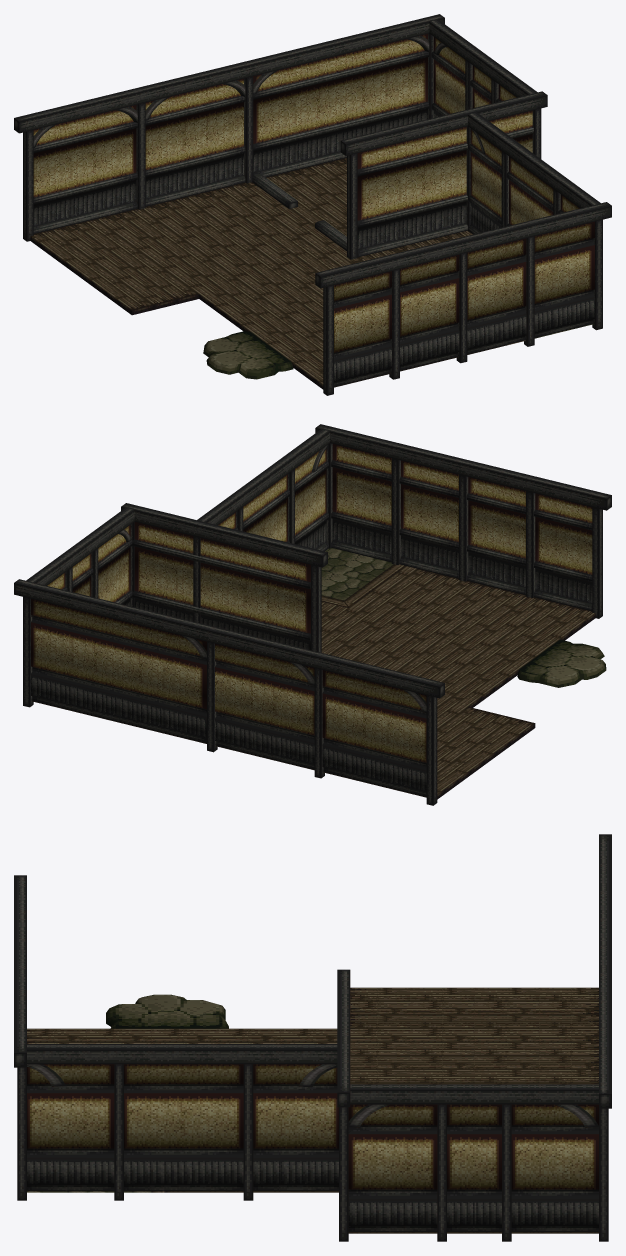
File: EnvBdgMD_Forest_A_Indoor_House_E.FBX
3 renders of one model, top to bottom at view 1: azimuth 30°, elevation 25°; view 2: azimuth 150°, elevation 25°; view 3: azimuth 270°, elevation 25°, orthographic. The views are drawn at different scales.
Visible parts, largest first — view 1: EnvBdgMD_Forest_A_Indoor_House_E; view 2: EnvBdgMD_Forest_A_Indoor_House_E; view 3: EnvBdgMD_Forest_A_Indoor_House_E.
Part boxes in pixels (x1=…): EnvBdgMD_Forest_A_Indoor_House_E: x1=14, y1=14, x2=611, y2=395; EnvBdgMD_Forest_A_Indoor_House_E: x1=14, y1=424, x2=611, y2=805; EnvBdgMD_Forest_A_Indoor_House_E: x1=14, y1=834, x2=611, y2=1241.
Bounding box in the file's own units: 1900 × 525 × 1850.
